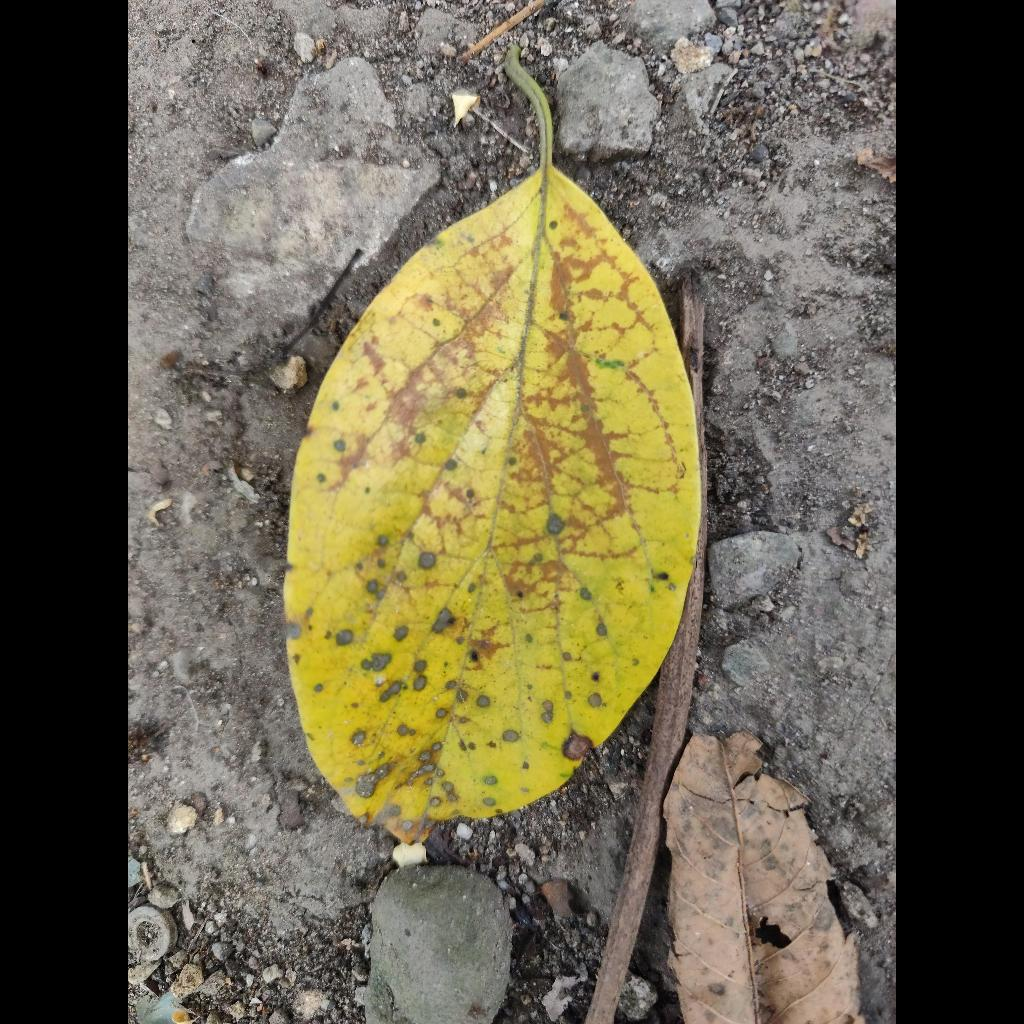deficiencia_nutricional: (285, 46, 701, 843)
